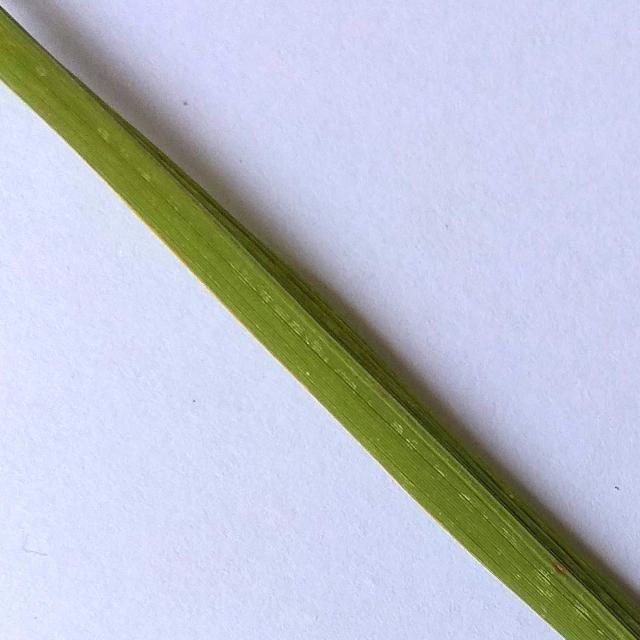Blast: (544, 558, 574, 584)
